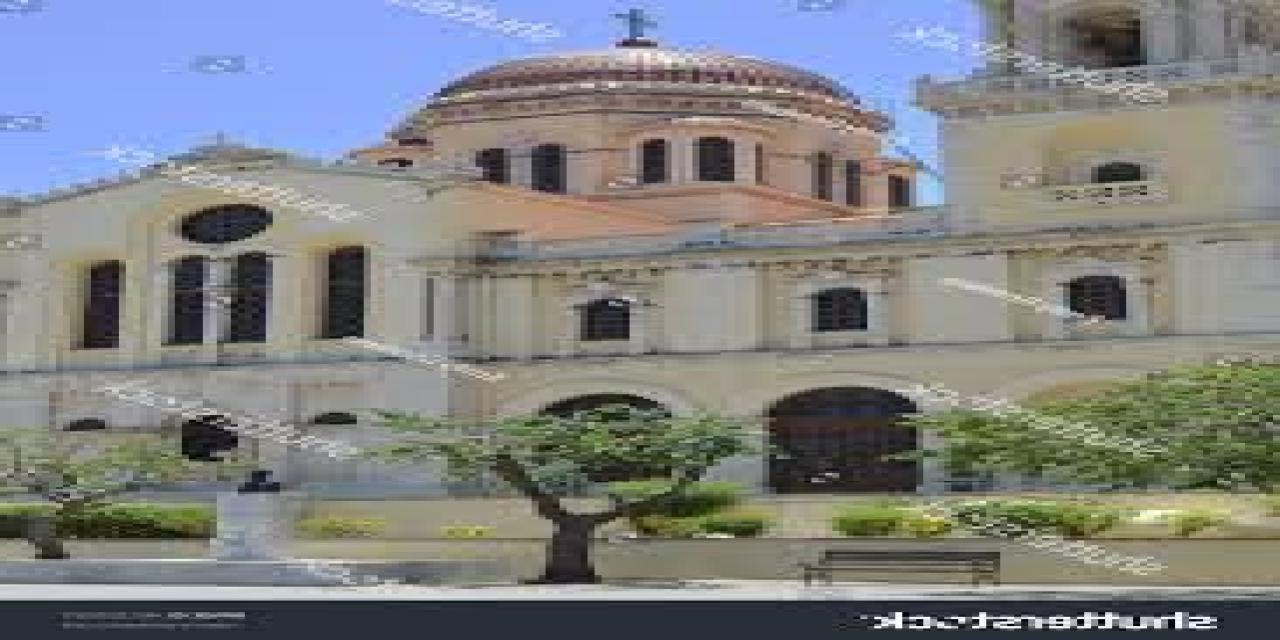Agios Minas: (1, 3, 1276, 503)
